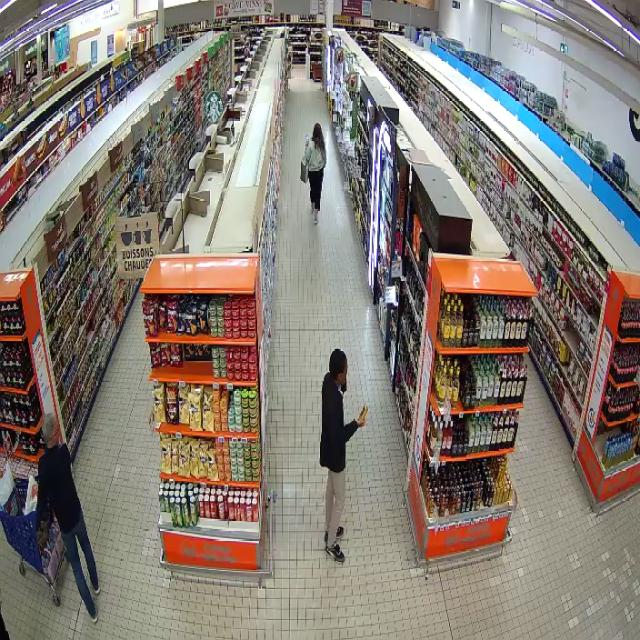article: (358, 404, 369, 420)
hands: (356, 416, 366, 427)
person: (36, 413, 99, 621), (319, 349, 367, 563), (303, 123, 325, 223)
